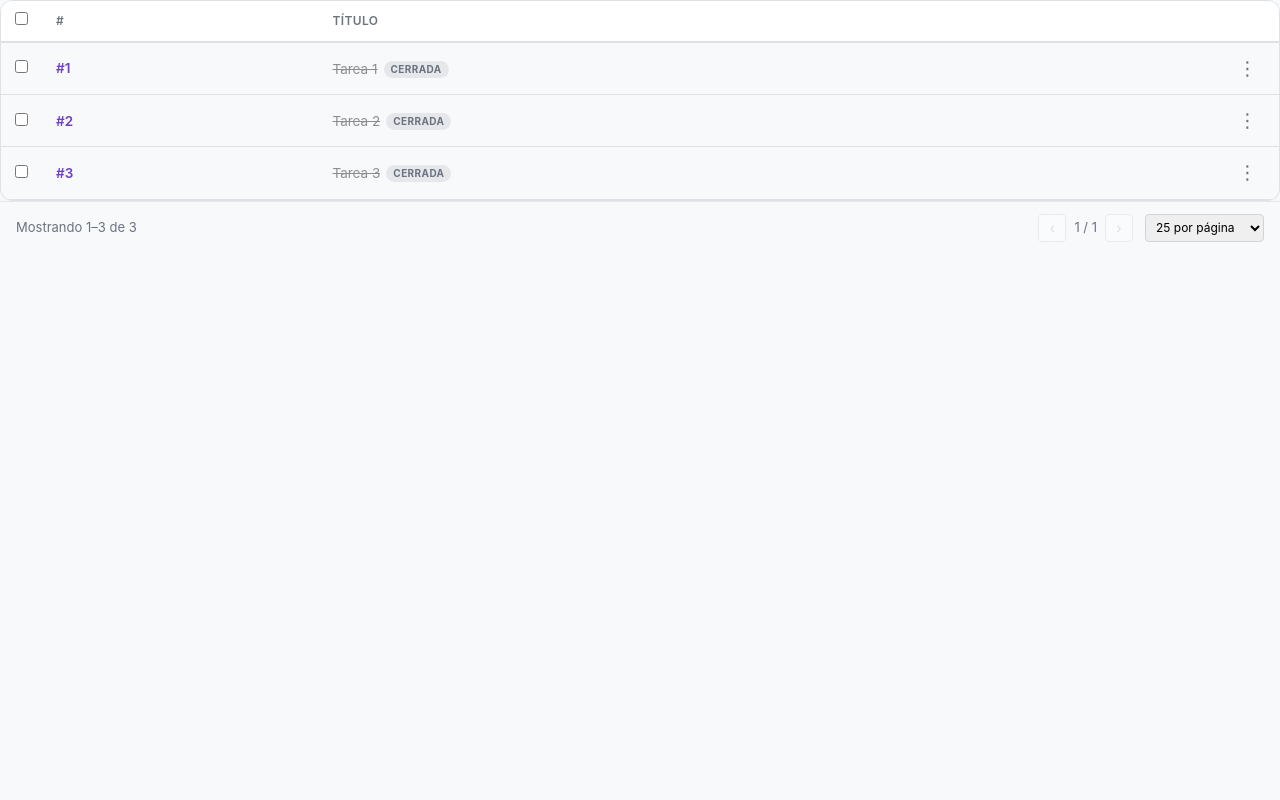
TasksTableView — bulk Archivar (#86) › archives all closed tasks on confirm
Click the checkbox named "Seleccionar todos". click: [22, 18]
box: left=15, top=12, right=28, bottom=25
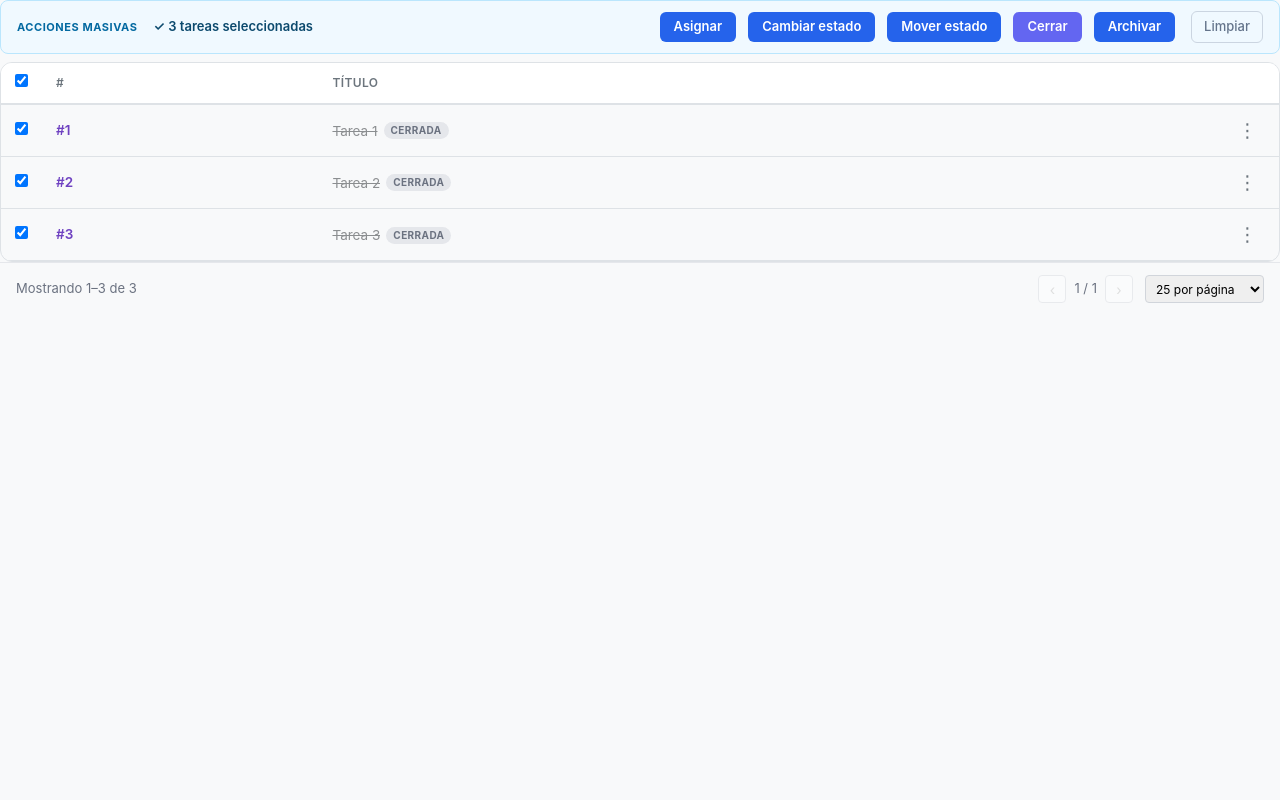
Click the button with test id "bulk-archive-btn". click: [1134, 27]
box: left=1094, top=12, right=1175, bottom=42
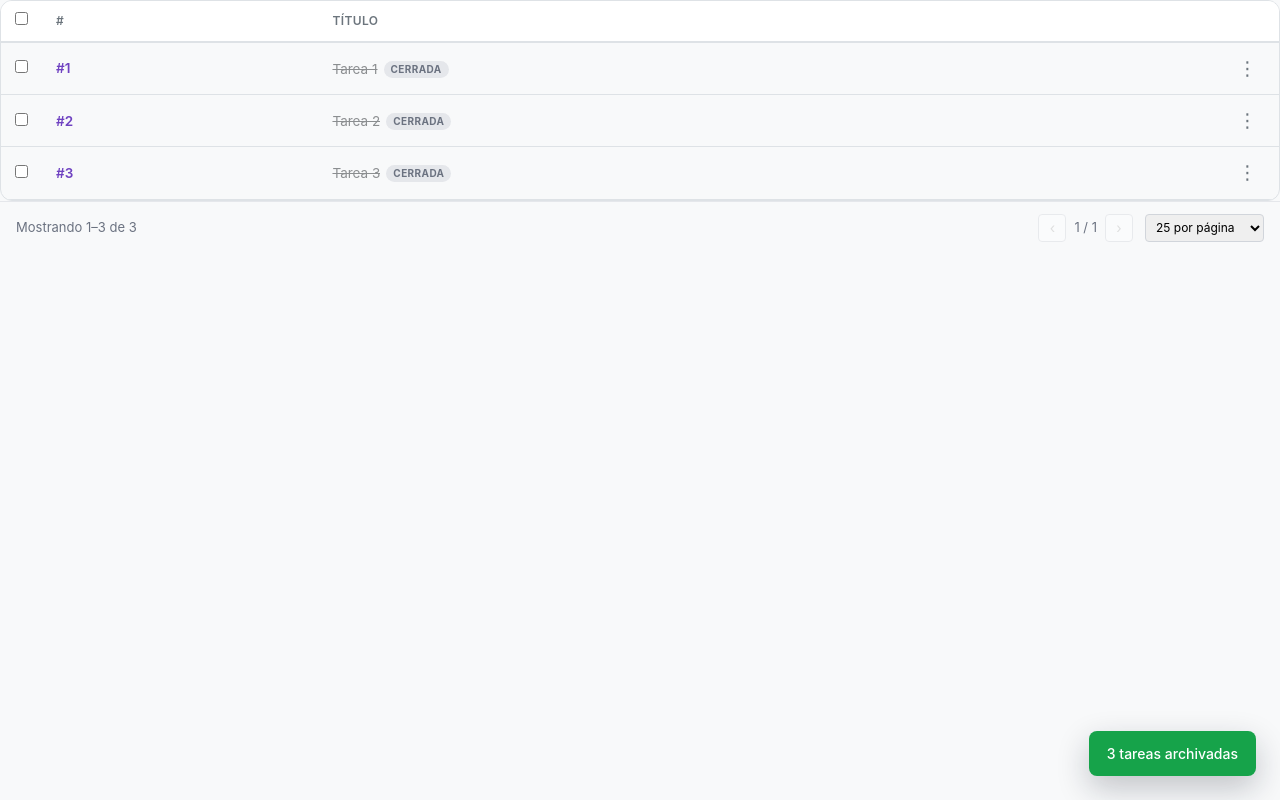
expect the message reads "3 tareas archivadas": met, box left=1107, top=745, right=1238, bottom=762
